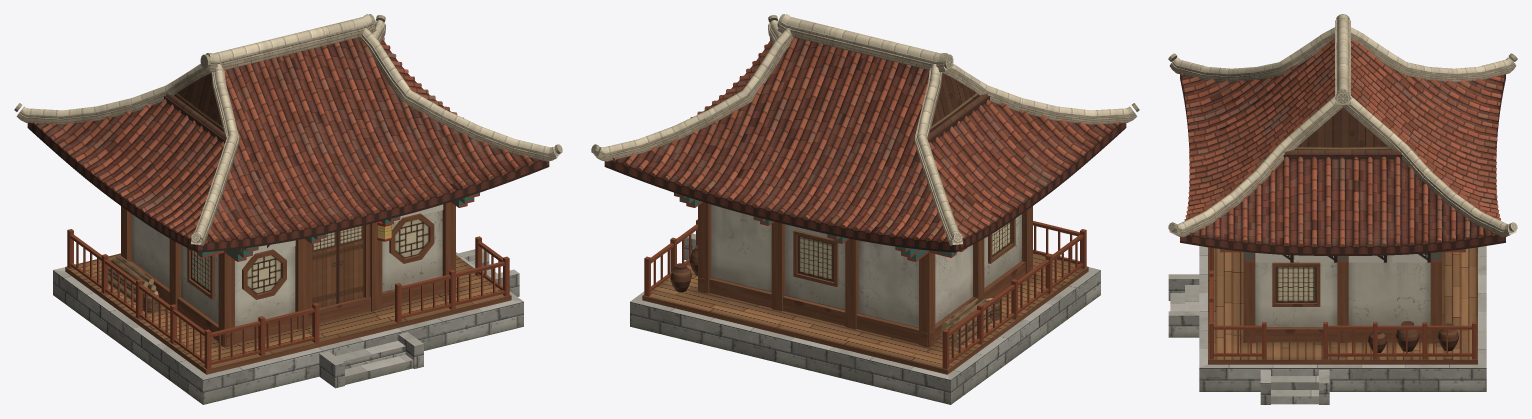
Rendered from prop_house_small.89ec5b97.glb.
The picture shows the model from 3 angles, left to right: view 1: azimuth 30°, elevation 25°; view 2: azimuth 150°, elevation 25°; view 3: azimuth 270°, elevation 25°; orthographic projection. The views are drawn at different scales.
Visible parts, largest first — view 1: prop_house_small; view 2: prop_house_small; view 3: prop_house_small.
Boxes of the visible parts, x1,y1,x2,y2 form: prop_house_small: (14,14,562,404); prop_house_small: (591,14,1139,404); prop_house_small: (1168,14,1517,404).
Size of the model in its own units: 8.62 by 6.1 by 7.29.
1 material, 1 textured.
